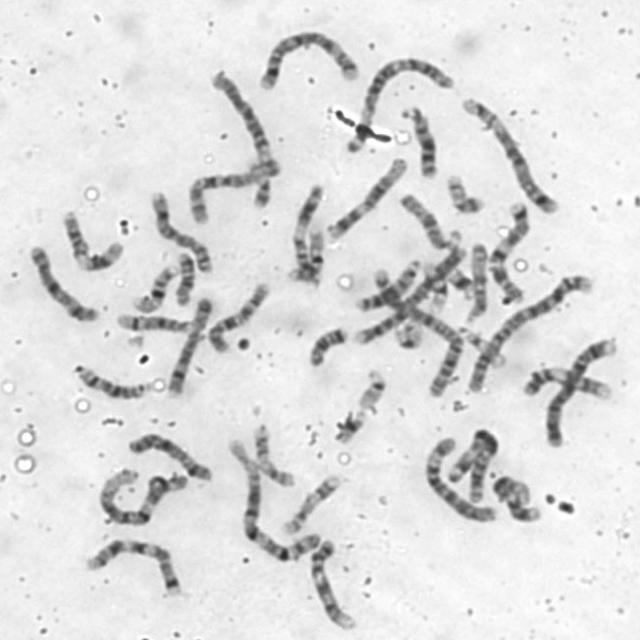A1: (225, 431, 324, 565), (92, 462, 190, 528)
A2: (461, 270, 596, 396), (366, 260, 466, 397)
A3: (342, 50, 458, 154), (442, 423, 502, 505)
B4: (348, 238, 469, 346), (540, 332, 621, 449)
B5: (456, 90, 564, 217), (254, 25, 362, 91)
C10: (182, 153, 284, 226), (203, 277, 273, 355)
C11: (56, 204, 126, 274), (285, 178, 328, 285)
C12: (320, 151, 411, 244), (486, 473, 548, 526)
C6: (419, 430, 502, 525), (205, 67, 277, 168)
C7: (80, 533, 184, 598), (484, 196, 534, 304)
C8: (146, 184, 216, 276), (161, 292, 216, 399)
C9: (304, 533, 359, 632), (517, 359, 614, 403)
D13: (351, 254, 424, 314), (394, 99, 441, 179)
D14: (67, 359, 152, 401), (111, 307, 196, 335)
D15: (394, 187, 465, 251), (461, 236, 490, 325)
E16: (128, 258, 182, 314), (284, 223, 327, 284)
E17: (275, 469, 344, 538), (248, 419, 297, 489)
E18: (303, 321, 352, 368), (171, 248, 197, 307)
F19: (388, 303, 424, 354), (418, 258, 450, 314)
F20: (442, 169, 487, 216), (244, 155, 276, 211)
G21: (328, 404, 369, 446), (443, 262, 476, 300)
G22: (455, 322, 509, 369), (352, 364, 389, 410)
X: (25, 239, 102, 325), (124, 428, 215, 484)
